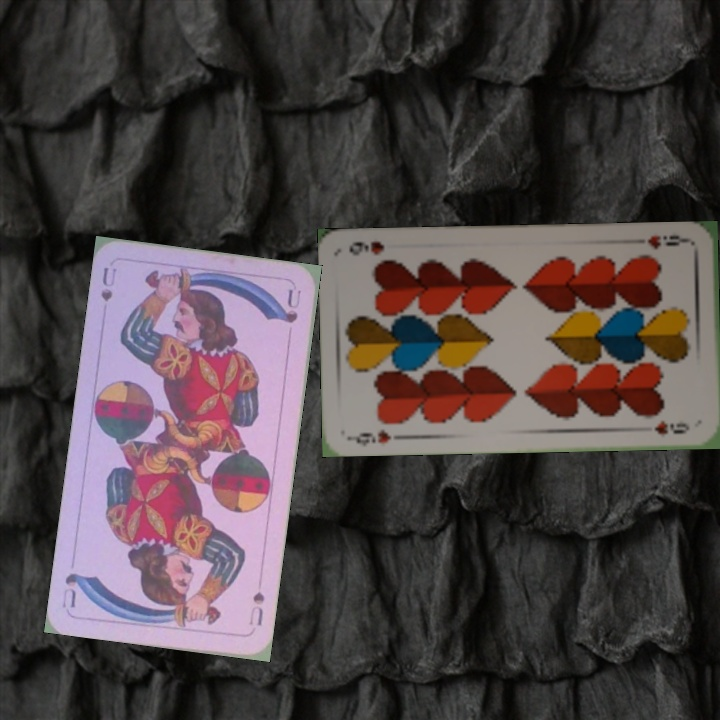H9: (346, 425, 394, 448), (643, 231, 692, 252)
SU: (244, 587, 267, 628), (97, 263, 119, 304)
